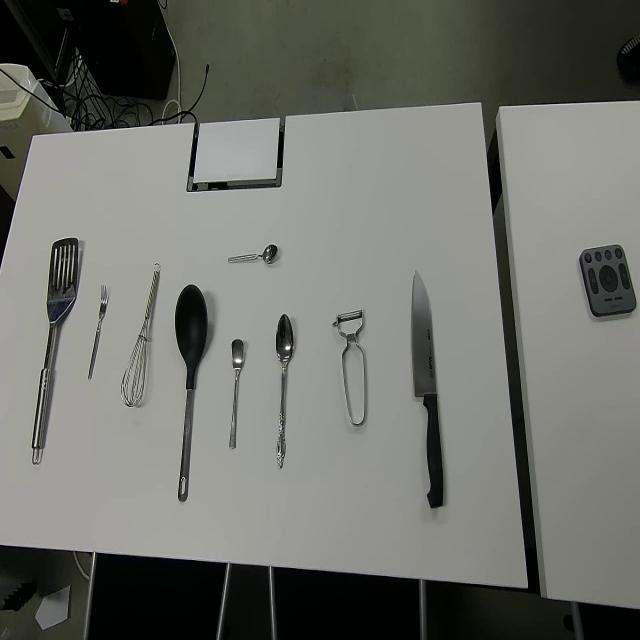Desert-Spoon: (274, 312, 294, 468)
Dinner-Fork: (86, 284, 107, 384)
Kitchen-Knife: (410, 264, 444, 510)
Peeler: (331, 305, 365, 426)
Serving-Spoon: (30, 236, 80, 468), (174, 281, 208, 504)
Tea-Spoon: (228, 338, 244, 450), (227, 243, 280, 265)
Whisk: (120, 261, 161, 409)
